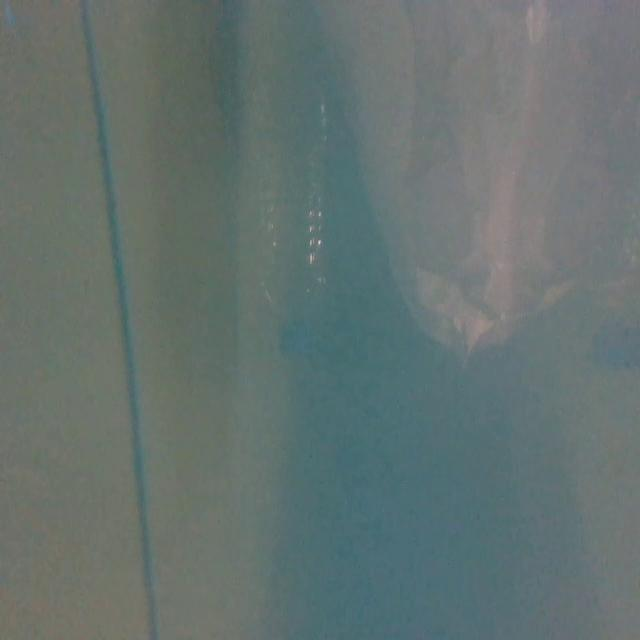plastic bags: (320, 3, 640, 366)
plastic bottle: (251, 85, 332, 361)
